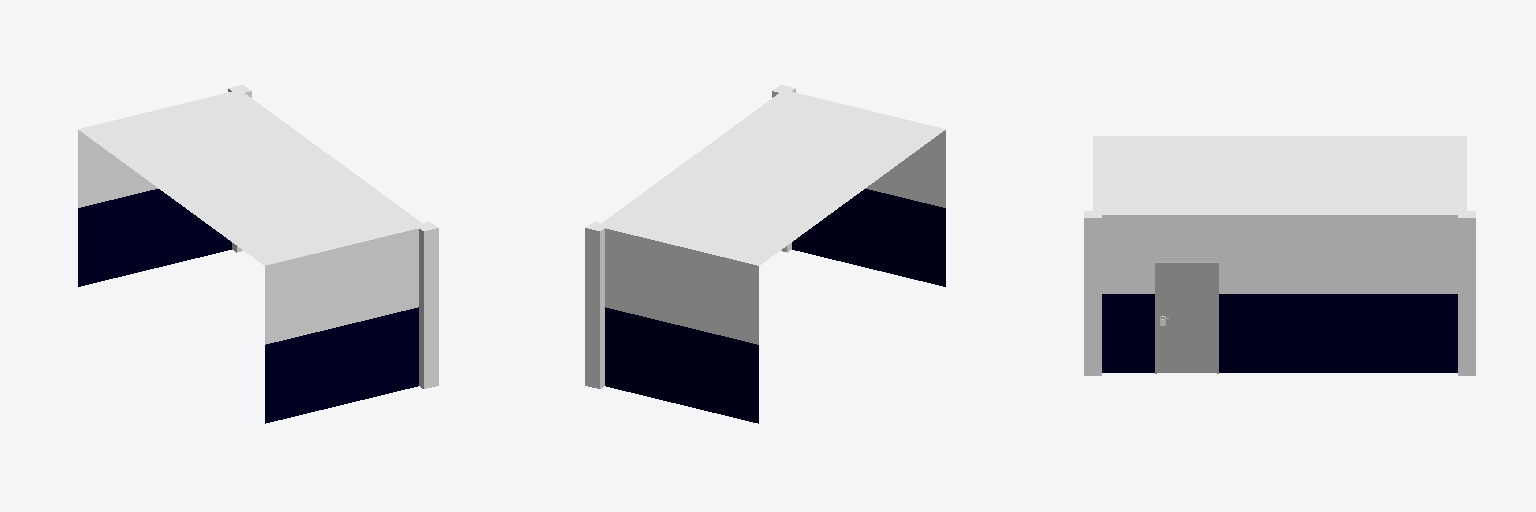
File: Block.obj
3 renders of one model, left to right at view 1: azimuth 30°, elevation 25°; view 2: azimuth 150°, elevation 25°; view 3: azimuth 270°, elevation 25°, orthographic.
Visible parts, largest first — view 1: pCube25; view 2: pCube25; view 3: pCube25.
Boxes of the visible parts, x1=… form: pCube25: x1=78, y1=85, x2=438, y2=423; pCube25: x1=585, y1=85, x2=945, y2=423; pCube25: x1=1084, y1=136, x2=1475, y2=375.
Size of the model in its own units: 78.7 by 70.08 by 157.